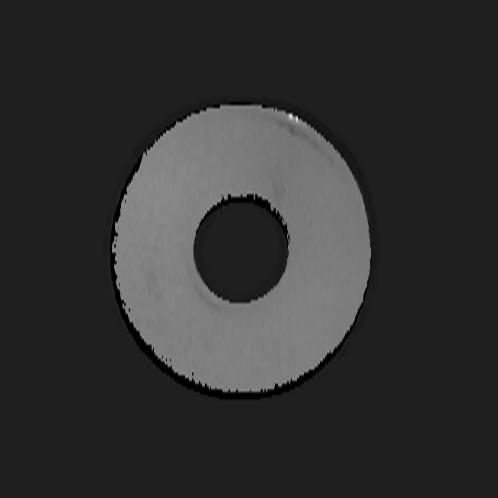defect: (141, 256, 163, 302), (268, 164, 287, 209)
